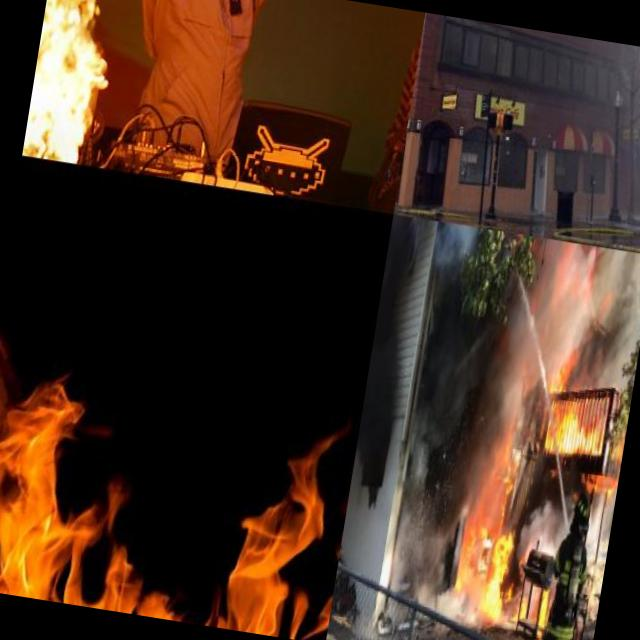fire: (0, 302, 370, 640), (22, 0, 156, 171), (536, 389, 610, 467), (478, 524, 514, 618), (453, 504, 492, 590), (492, 434, 524, 520), (546, 348, 576, 402), (586, 461, 620, 502), (532, 584, 552, 636), (512, 578, 532, 629)
smoke: (530, 241, 640, 376), (384, 402, 447, 603), (415, 572, 483, 628), (514, 491, 562, 561)
